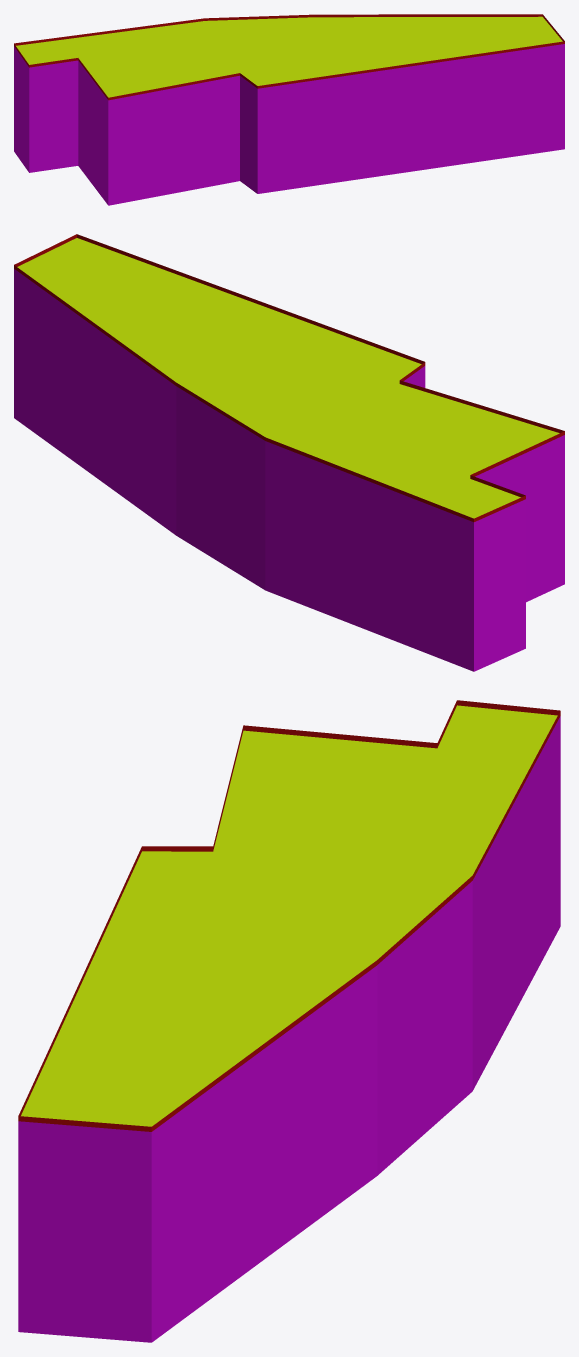
The model's file is svc_72.glb.
The picture shows the model from 3 angles, top to bottom: view 1: azimuth 30°, elevation 25°; view 2: azimuth 150°, elevation 25°; view 3: azimuth 270°, elevation 25°; orthographic projection. The views are drawn at different scales.
Parts seen in each view (by area): view 1: svc_72; view 2: svc_72; view 3: svc_72.
Part boxes in pixels (x1,y1,x2,y2): svc_72: [14, 14, 564, 205]; svc_72: [14, 234, 564, 671]; svc_72: [18, 700, 560, 1342].
Bounding box in the file's own units: 61.07 × 14.42 × 32.8.
